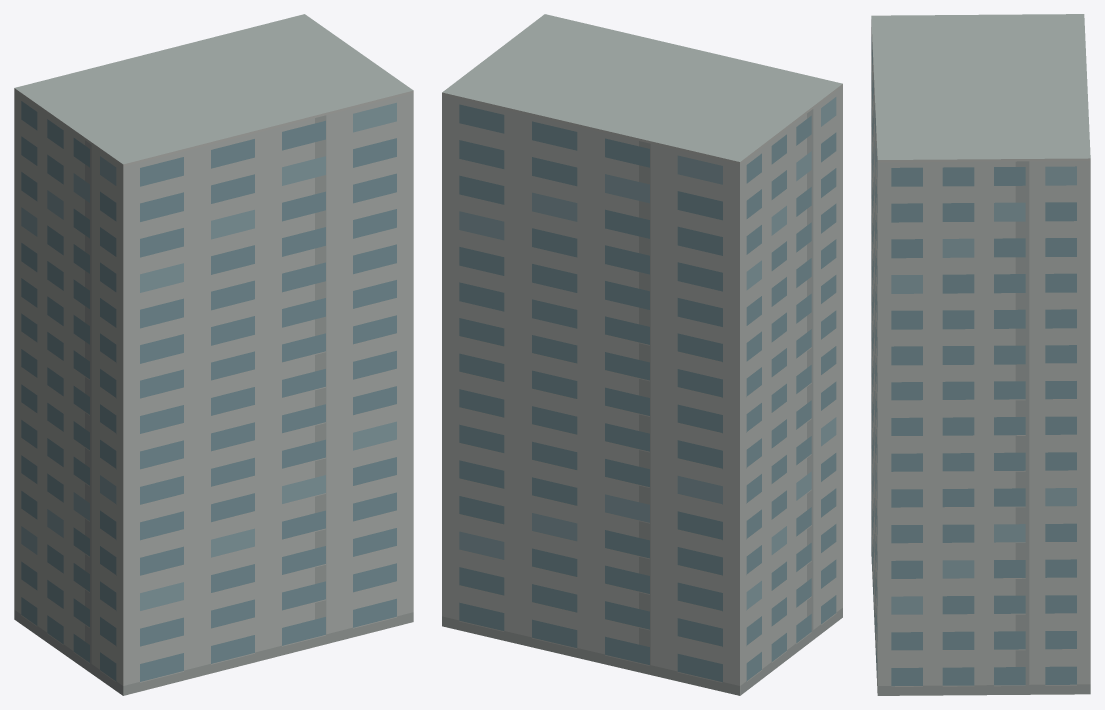
The model's file is residential-8bc769be-1c1d-45ef-a020-22652ed66614.glb.
3 renders of one model, left to right at view 1: azimuth 30°, elevation 25°; view 2: azimuth 150°, elevation 25°; view 3: azimuth 270°, elevation 25°, orthographic.
Visible parts, largest first — view 1: residential-8bc769be-1c1d-45ef-a020-22652ed66614.tmp; view 2: residential-8bc769be-1c1d-45ef-a020-22652ed66614.tmp; view 3: residential-8bc769be-1c1d-45ef-a020-22652ed66614.tmp.
Boxes of the visible parts, x1,y1,x2,y2 form: residential-8bc769be-1c1d-45ef-a020-22652ed66614.tmp: (14,14,413,695); residential-8bc769be-1c1d-45ef-a020-22652ed66614.tmp: (442,14,842,695); residential-8bc769be-1c1d-45ef-a020-22652ed66614.tmp: (871,14,1090,695).
Bounding box in the file's own units: 31 × 53 × 19.67.
